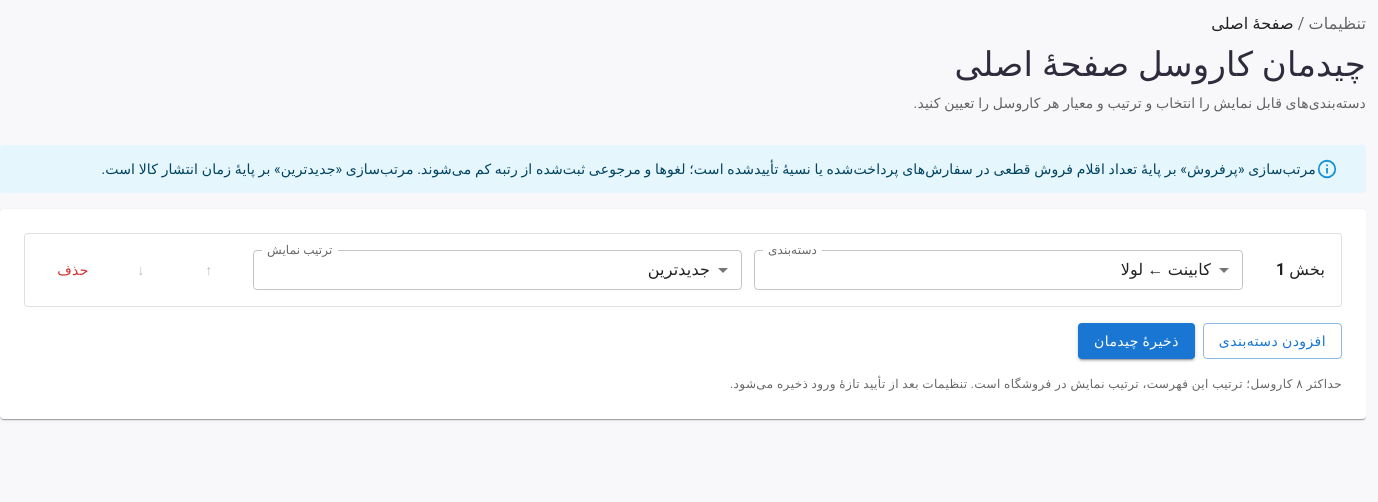
homepage category carousel settings › keeps the same command key and payload after an ambiguous save result
The image size is (1378, 502).
Expected: the text "بخش 1" is shown, [1276, 260, 1325, 279]
Step 1. Click the button "ذخیرهٔ چیدمان" → coordinates (1136, 341), box [1078, 323, 1195, 359]
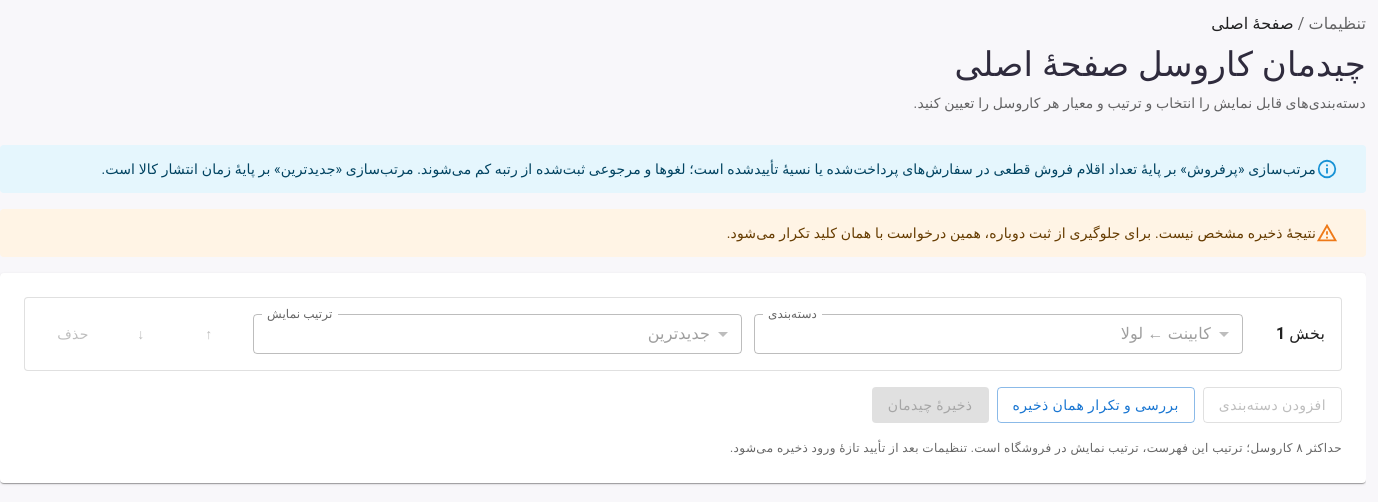
Expected: the text "نتیجهٔ ذخیره مشخص نیست" is shown, [727, 225, 1316, 241]
Step 2. Click the button "بررسی و تکرار همان ذخیره" → coordinates (1096, 405), box [996, 387, 1195, 423]
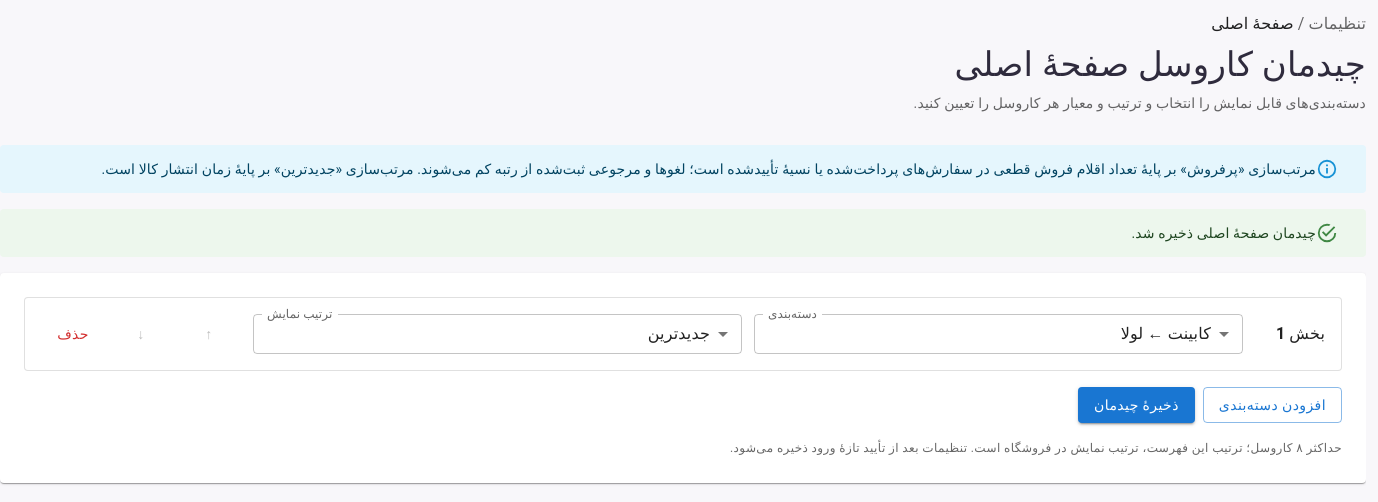
Expected: the text "چیدمان صفحهٔ اصلی ذخیره شد." is shown, [1131, 225, 1316, 241]
